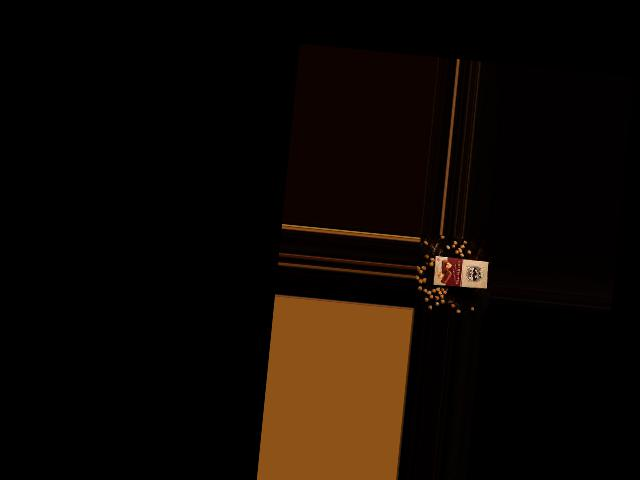chocolate: (430, 254, 490, 292)
